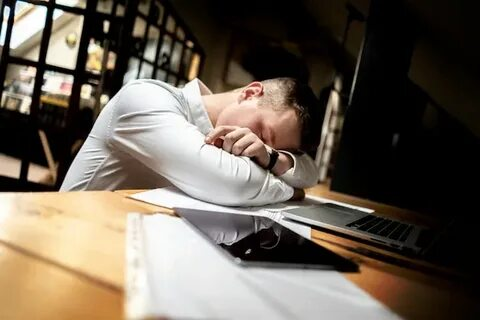sleep: (63, 76, 321, 201)
